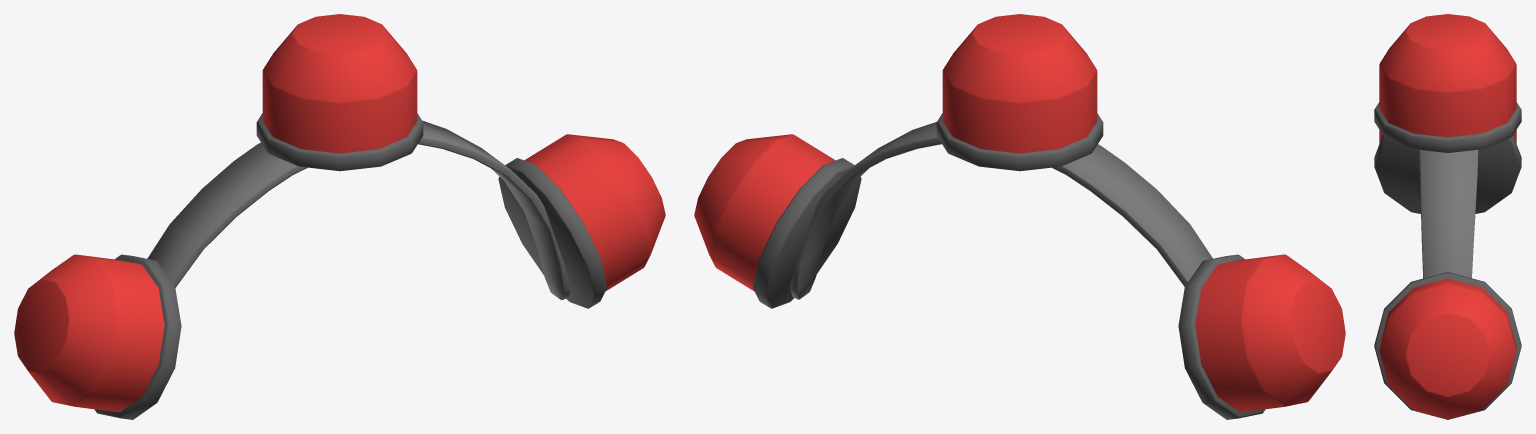
Rendered from Hat_098.glb.
The picture shows the model from 3 angles, left to right: view 1: azimuth 30°, elevation 25°; view 2: azimuth 150°, elevation 25°; view 3: azimuth 270°, elevation 25°; orthographic projection. The views are drawn at different scales.
Visible parts, largest first — view 1: Hat_098; view 2: Hat_098; view 3: Hat_098.
Boxes of the visible parts, left/top/right/bottom form: Hat_098: left=14, top=14, right=665, bottom=419; Hat_098: left=694, top=14, right=1345, bottom=419; Hat_098: left=1374, top=14, right=1521, bottom=419.
Size of the model in its own units: 0.6228 by 0.3099 by 0.1441.
Materials: 1 (1 with a texture image).
